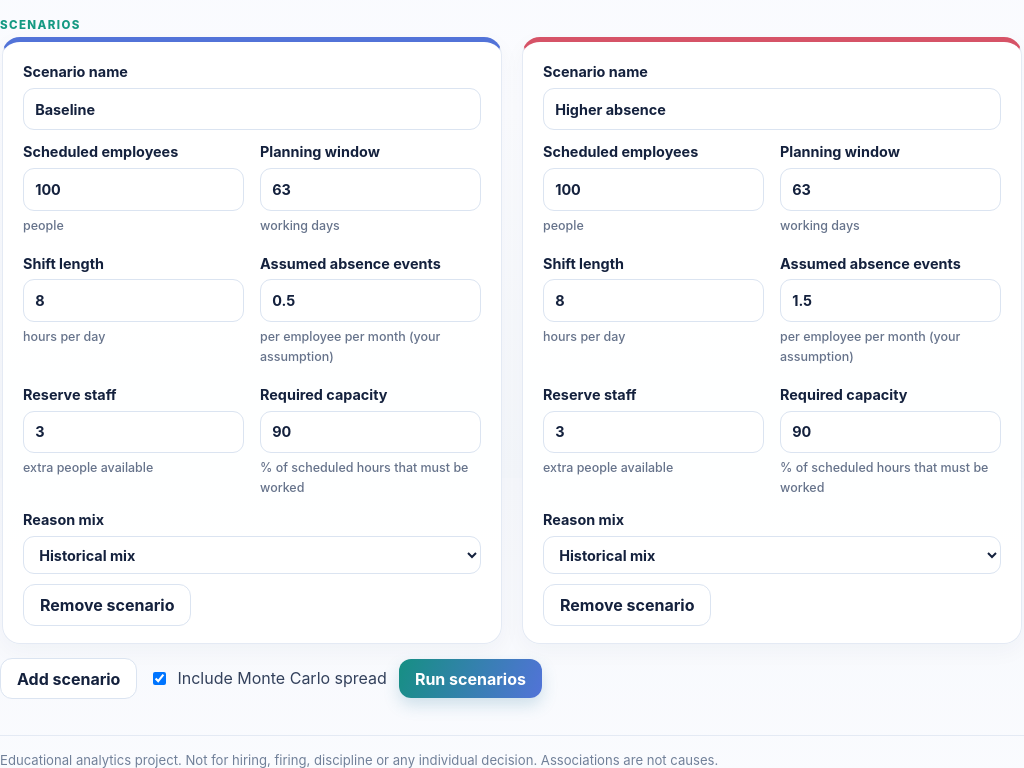
Test case: Planning page › applies the reason-mix preset by up-weighting the matching tier
(page scrolled)
Select "More long illness-type reasons (×2)" in the 1st dropdown labelled "Reason mix" at point(252, 555), box [23,536,481,574]
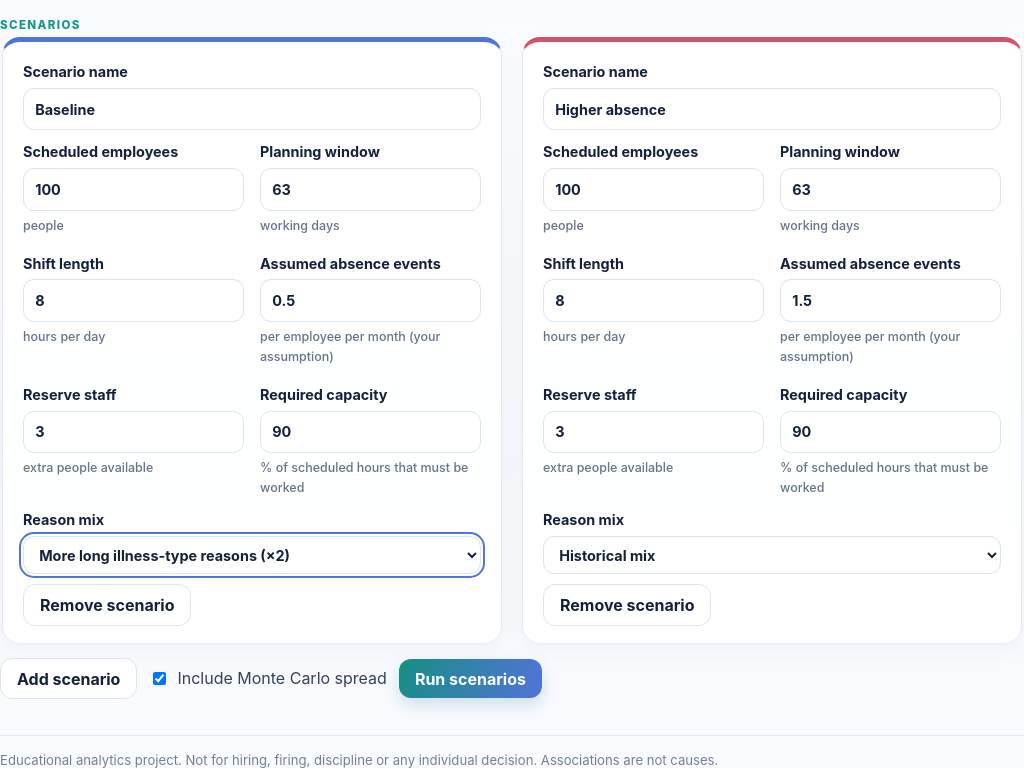
Click the button "Run scenarios".
click(470, 679)  # box [399,659,542,698]
(page scrolled)
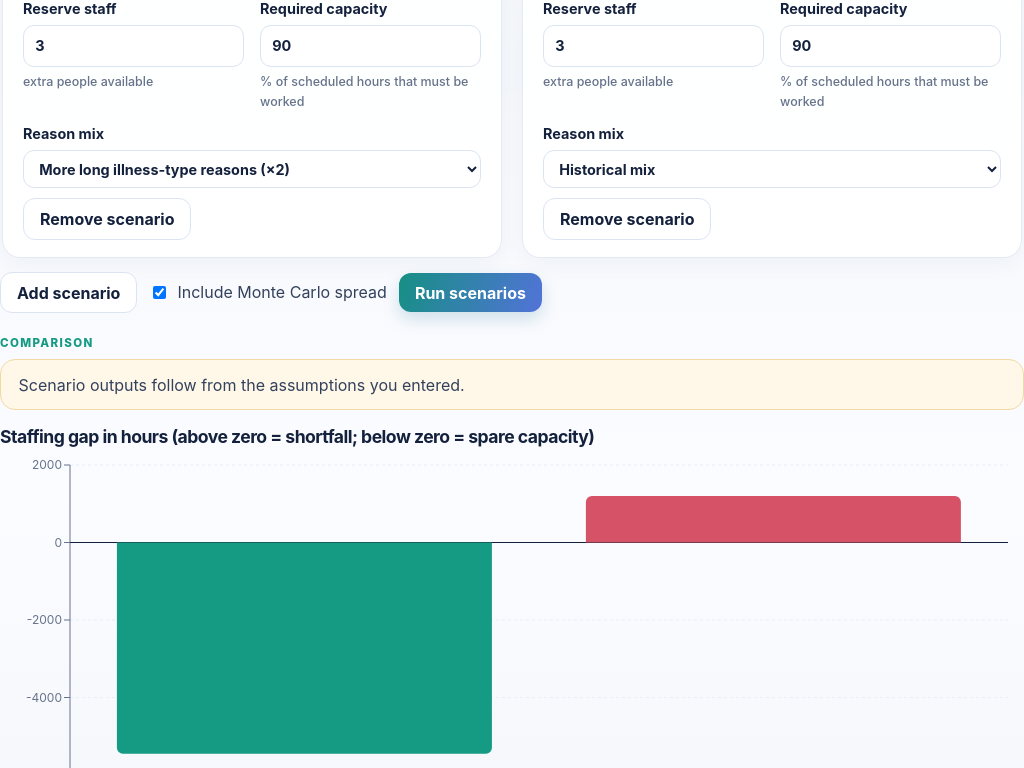
Result: the text "Scenario outputs follow from the assumptions you entered." is shown at [0,359,1023,410]
